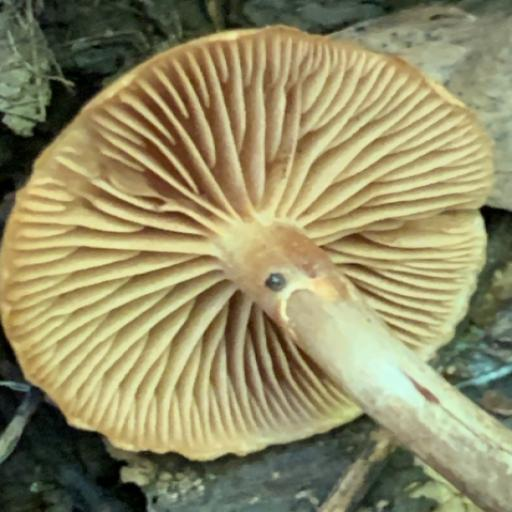mushroom: (3, 23, 505, 467)
